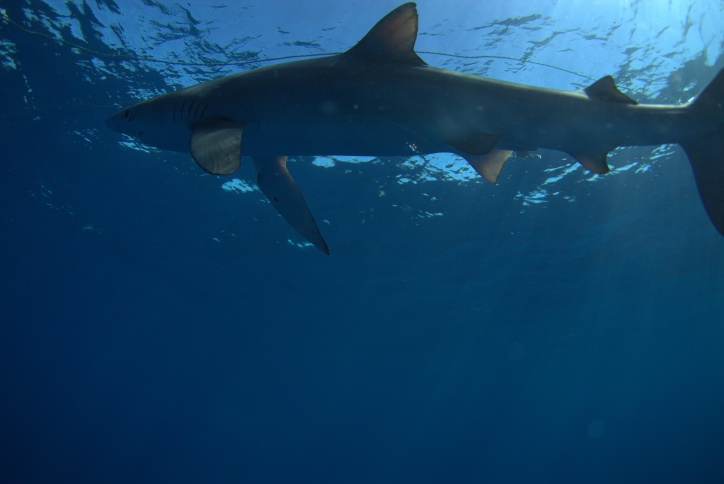Azul: (83, 6, 724, 268)
